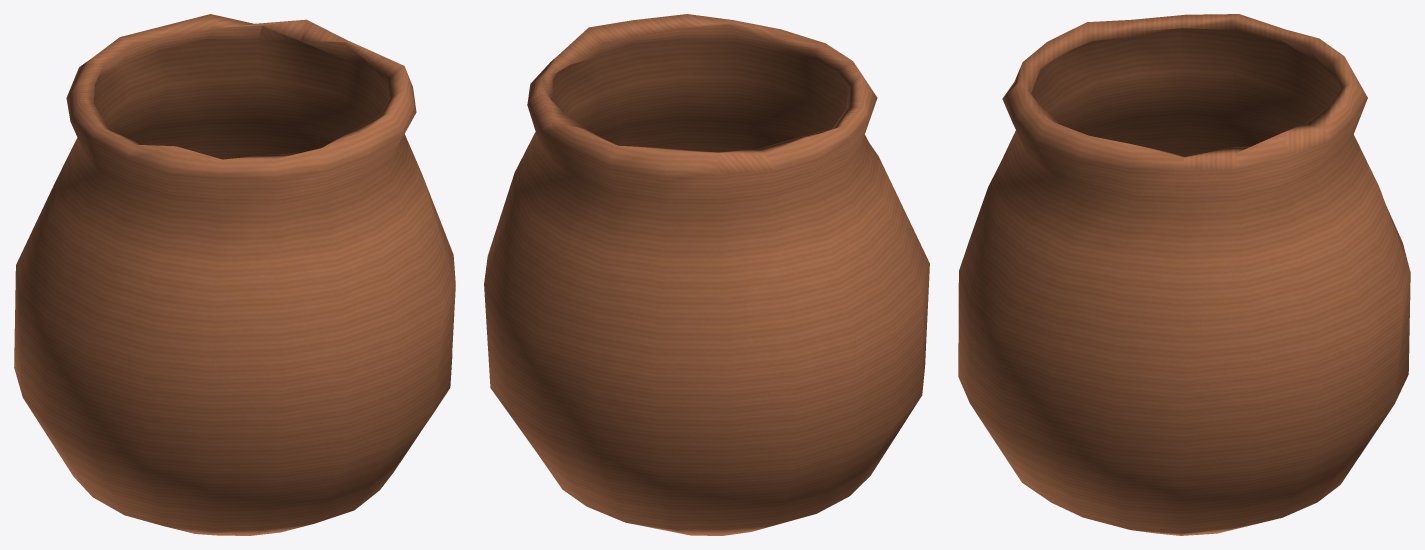
The model's file is oiljar.glb.
3 views of the same model, side by side, from view 1: azimuth 30°, elevation 25°; view 2: azimuth 150°, elevation 25°; view 3: azimuth 270°, elevation 25° (orthographic). The views are drawn at different scales.
Visible parts, largest first — view 1: oiljar; view 2: oiljar; view 3: oiljar.
Boxes of the visible parts, bbox=[...] form: oiljar: bbox=[14, 14, 455, 535]; oiljar: bbox=[484, 14, 929, 535]; oiljar: bbox=[958, 14, 1410, 535].
Size of the model in its own units: 0.4771 by 0.4879 by 0.4703.
Materials: 1 (1 with a texture image).
